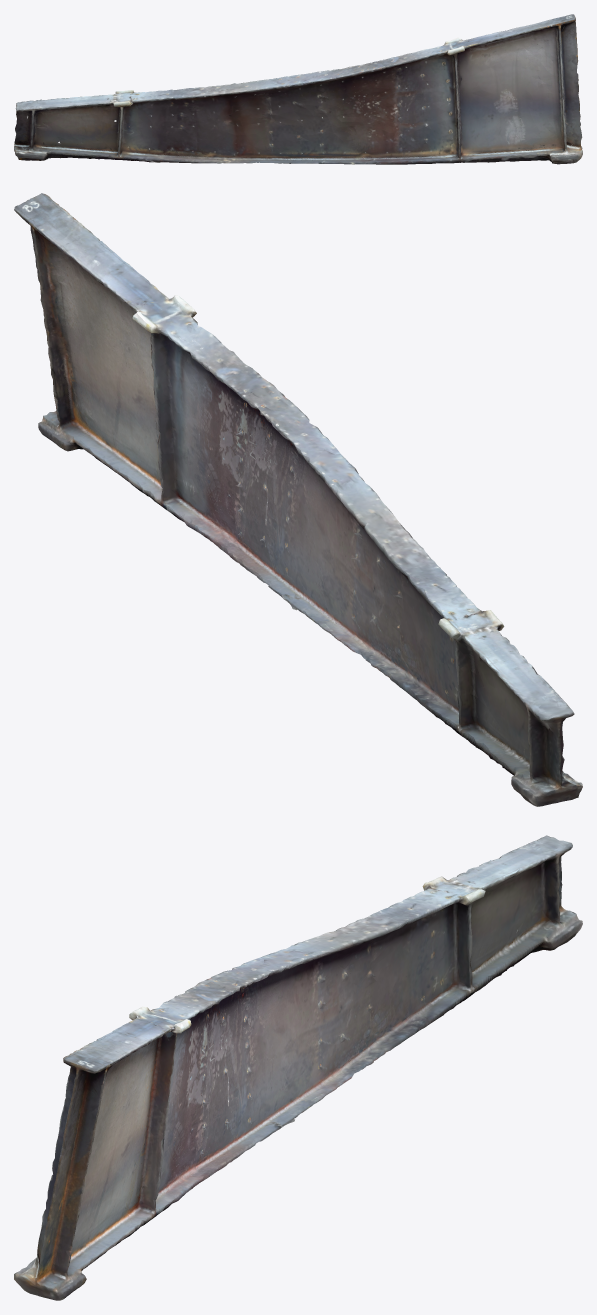
File: B3_android.glb
3 views of the same model, one above another, from view 1: azimuth 30°, elevation 25°; view 2: azimuth 150°, elevation 25°; view 3: azimuth 270°, elevation 25° (orthographic). The views are drawn at different scales.
Bounding box in the file's own units: 1.76 × 0.5144 × 1.1.
Materials: 1 (1 with a texture image).
